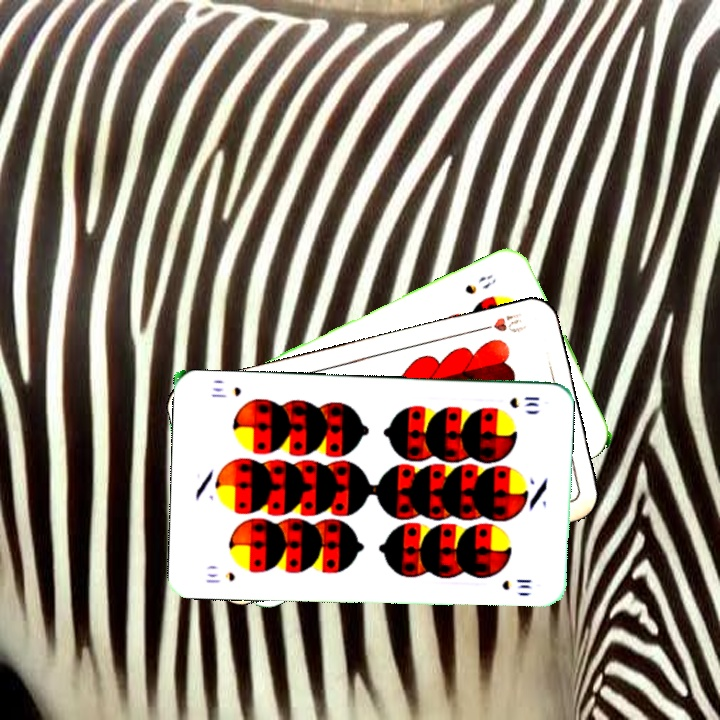H10: (472, 308, 529, 336)
S10: (202, 568, 237, 586), (505, 393, 542, 410)
S8: (460, 270, 499, 297)
